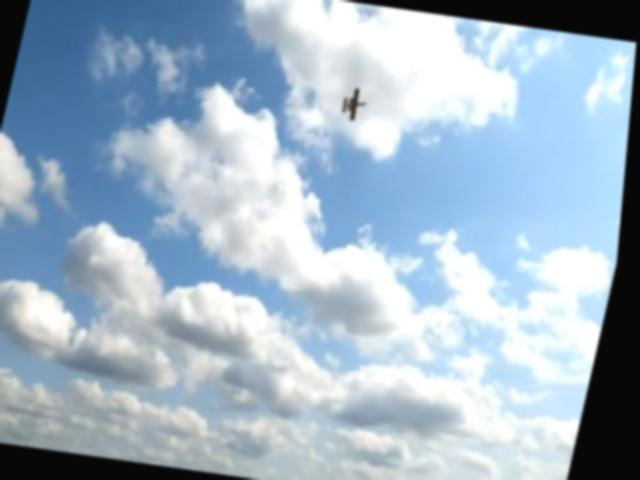uav: (336, 80, 375, 129)
